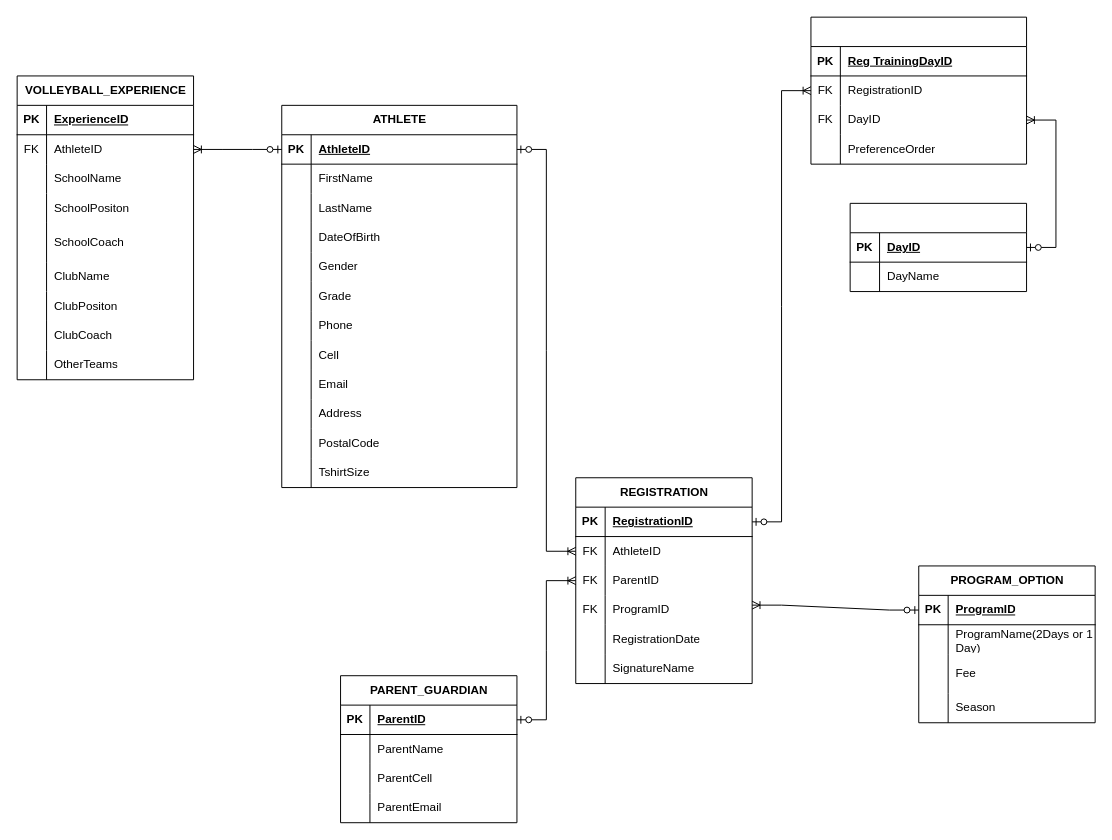
Some shapes in this 1112 by 840 pixel diagram are drawn without their labels. The box of each missing label's shape, as (x1, y1, x2, y2) in pixels:
REGISTRATION_TRAINING_DAY: (810, 16, 1027, 164)
TRAINING_DAY: (849, 202, 1027, 292)
